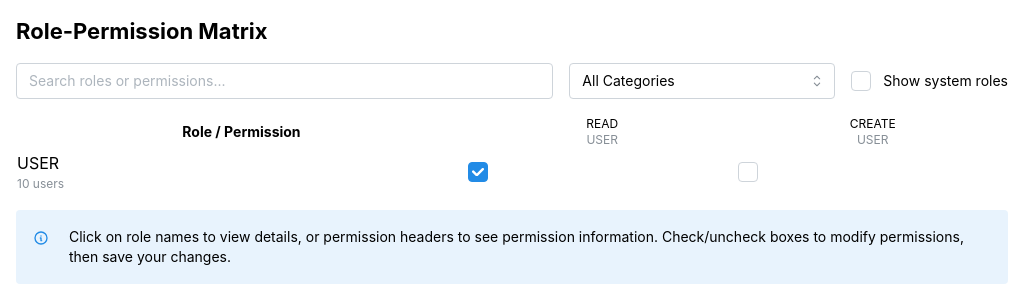
Test: RolePermissionMatrix › should handle permission toggle
Click the 2nd checkbox: (478, 172) [468,162,488,182]
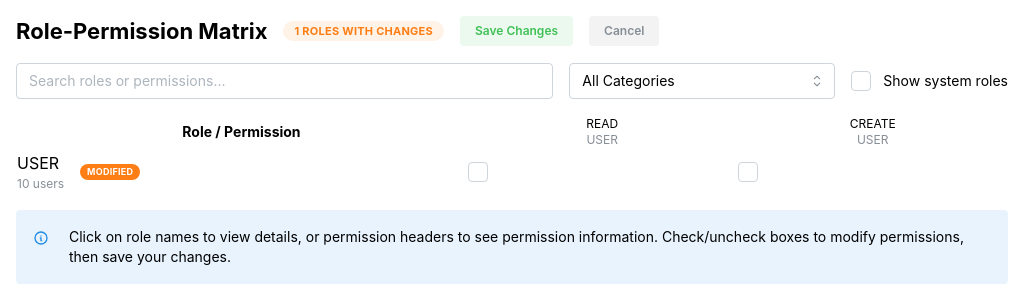
Check: the text "1 roles with changes" is shown, box [294,22,433,40]
